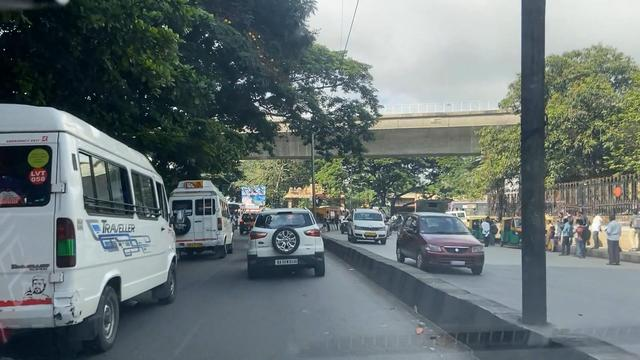LMV: (253, 209, 327, 285)
